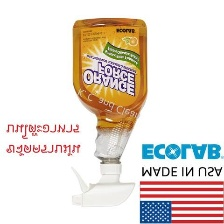cleaning_solution: (63, 16, 150, 209)
